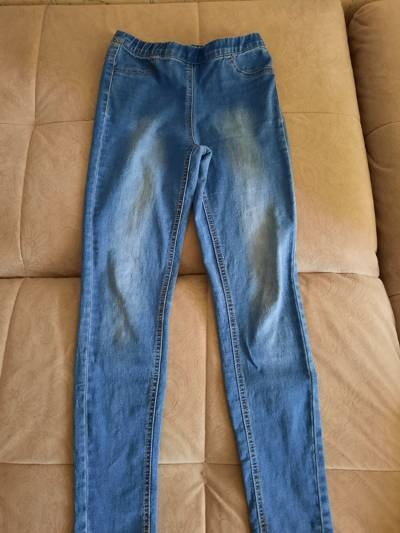Pants: (49, 15, 344, 531)
